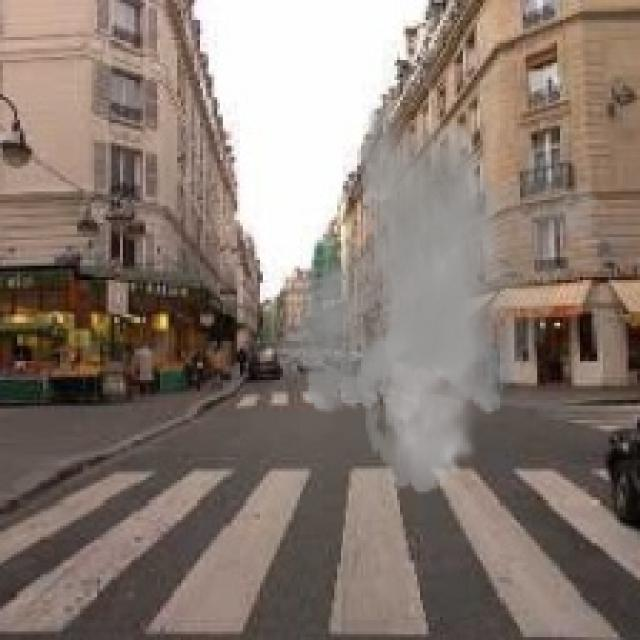smoke: (263, 103, 608, 494)
